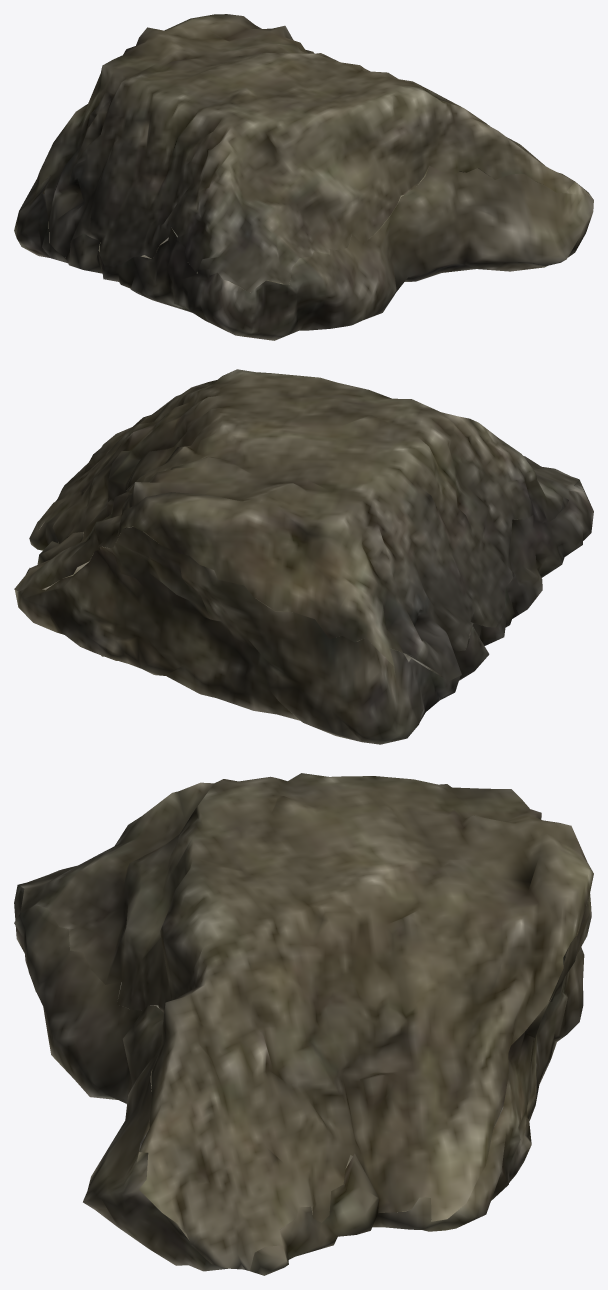
Rendered from rock_moss_set_02_c.gltf.lod.glb.
3 views of the same model, one above another, from view 1: azimuth 30°, elevation 25°; view 2: azimuth 150°, elevation 25°; view 3: azimuth 270°, elevation 25° (orthographic). The views are drawn at different scales.
Visible parts, largest first — view 1: rock_moss_set_02_rock08; view 2: rock_moss_set_02_rock08; view 3: rock_moss_set_02_rock08.
Boxes of the visible parts, x1,y1,x2,y2 form: rock_moss_set_02_rock08: (14, 14, 593, 340); rock_moss_set_02_rock08: (14, 369, 593, 744); rock_moss_set_02_rock08: (14, 773, 593, 1275).
Size of the model in its own units: 1.21 by 0.5262 by 0.9835.
1 material, 1 textured.
